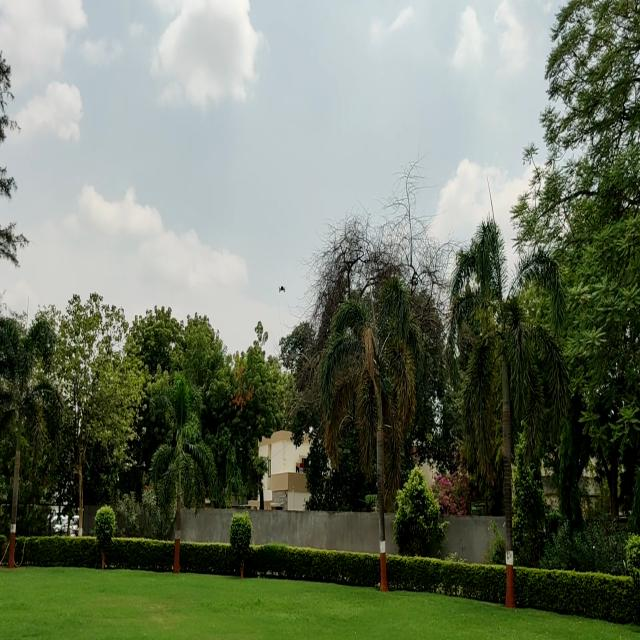drone: (276, 278, 288, 299)
